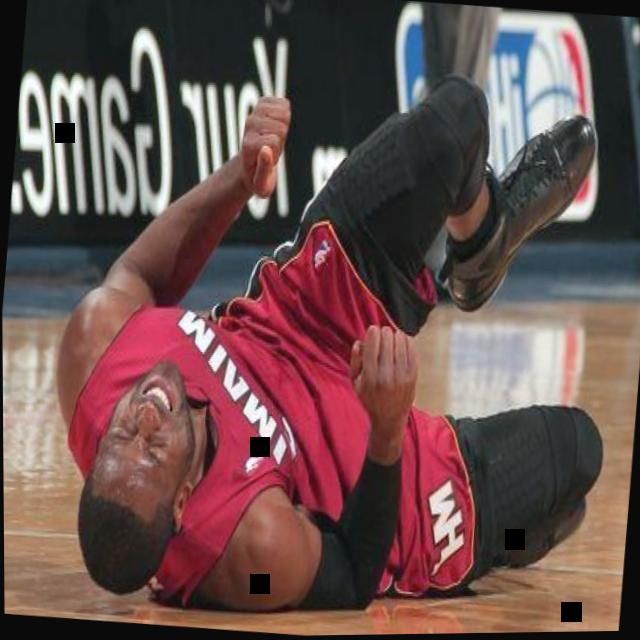Fall-Detected: (14, 0, 640, 640)
